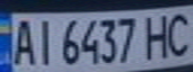3: (96, 16, 121, 65)
4: (78, 16, 100, 65)
6: (57, 16, 81, 65)
7: (115, 14, 142, 63)
A: (6, 15, 39, 66)
C: (163, 8, 193, 57)
H: (139, 10, 175, 60)
I: (30, 15, 57, 66)
